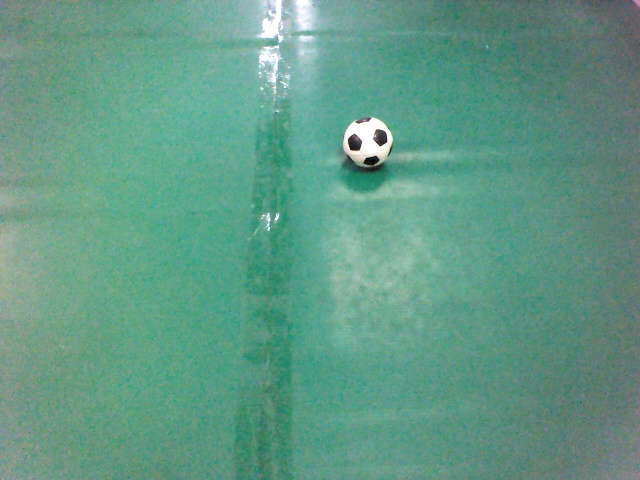ball: (340, 115, 394, 170)
